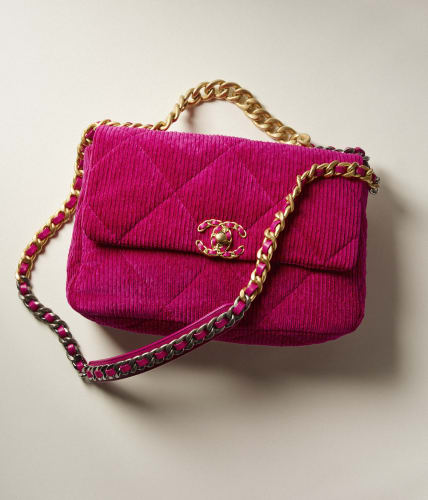channel: (68, 123, 382, 359), (245, 162, 350, 319), (180, 211, 245, 275)
